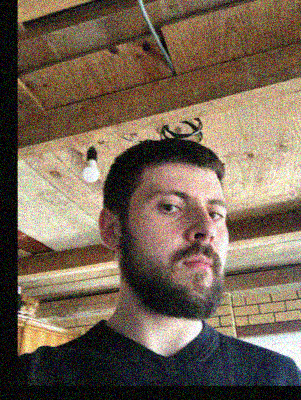without_mask: (134, 185, 228, 318)
